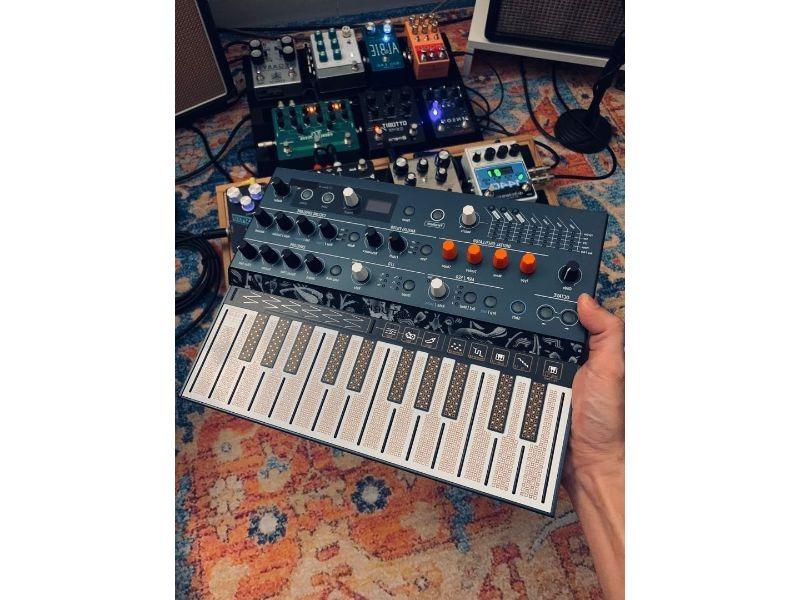synthesizer: (209, 174, 601, 512)
